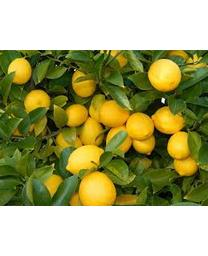lemon: (148, 59, 182, 93), (80, 173, 117, 204), (67, 144, 105, 173), (152, 106, 184, 132), (128, 112, 153, 141), (99, 101, 127, 126), (24, 88, 51, 113), (8, 57, 32, 85), (168, 132, 191, 159), (65, 105, 89, 124)
